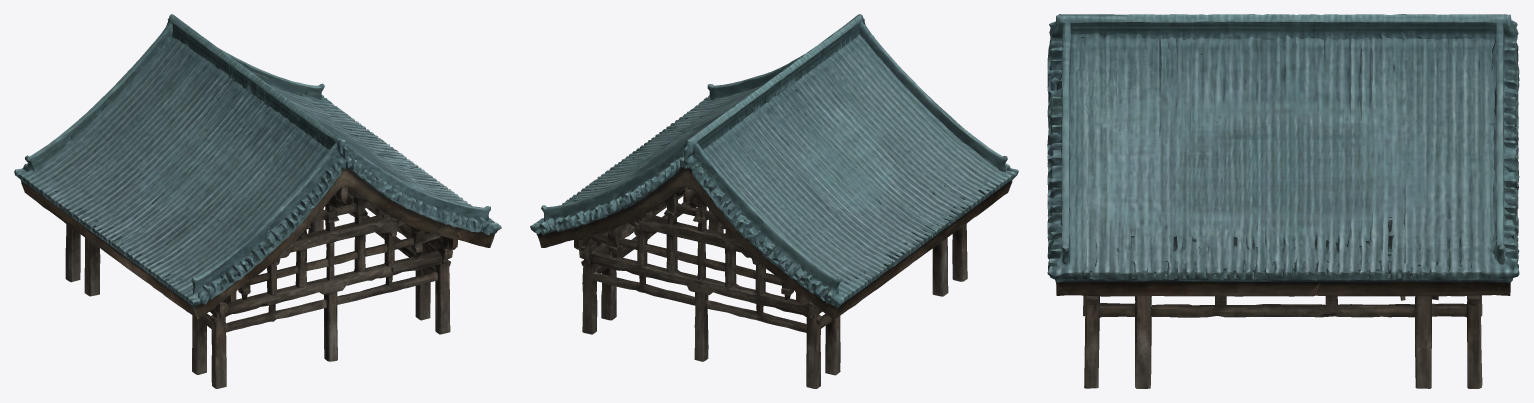
Rendered from ARCH-012.glb.
The picture shows the model from 3 angles, left to right: view 1: azimuth 30°, elevation 25°; view 2: azimuth 150°, elevation 25°; view 3: azimuth 270°, elevation 25°; orthographic projection. The views are drawn at different scales.
Parts seen in each view (by area): view 1: world; view 2: world; view 3: world.
Part boxes in pixels (<box>): world: <box>14,14,501,388</box>; world: <box>530,14,1018,388</box>; world: <box>1047,14,1519,388</box>.
Bounding box in the file's own units: 4.5 × 3.16 × 4.51.
1 material, 1 textured.
